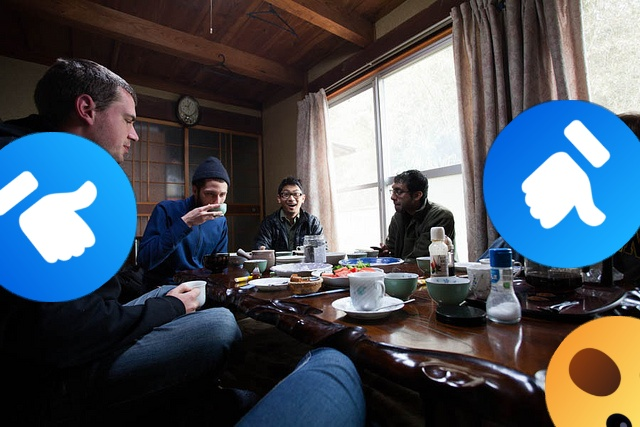like: (483, 100, 640, 268), (0, 132, 137, 302)
wow: (545, 316, 640, 427)
